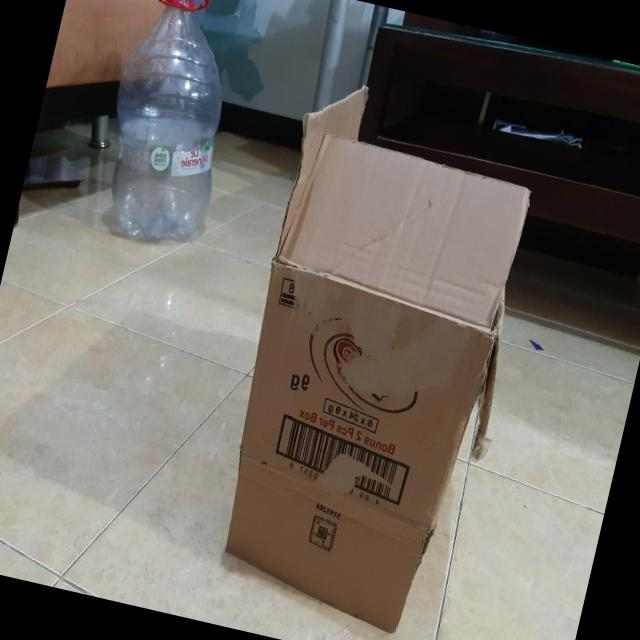Kardus: (193, 72, 561, 640)
